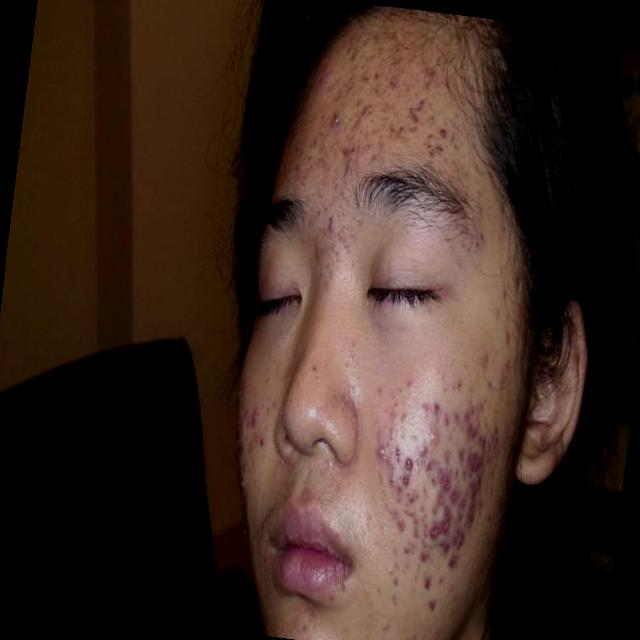acne: (320, 94, 348, 141), (464, 220, 496, 260), (403, 91, 432, 135), (368, 52, 398, 92), (372, 432, 402, 472), (489, 316, 517, 358), (416, 578, 442, 620), (289, 144, 316, 183), (430, 114, 456, 152), (420, 420, 448, 454), (458, 397, 482, 436), (467, 350, 491, 389), (384, 497, 409, 532), (383, 544, 402, 590), (426, 449, 448, 488), (232, 467, 255, 504), (340, 31, 369, 60), (482, 417, 504, 453), (374, 613, 403, 640), (383, 115, 408, 146), (400, 486, 424, 518), (354, 86, 374, 124), (334, 159, 357, 192), (464, 444, 489, 474), (446, 546, 466, 582), (323, 207, 342, 244), (362, 144, 382, 178), (426, 514, 440, 559), (243, 402, 269, 426), (413, 59, 433, 90), (400, 532, 420, 562), (443, 404, 462, 435), (395, 404, 414, 435), (455, 500, 479, 524), (380, 400, 398, 432), (399, 621, 429, 640), (237, 374, 256, 404), (428, 486, 448, 514), (444, 480, 464, 506), (315, 62, 333, 90), (416, 561, 436, 586), (452, 368, 468, 399), (394, 467, 418, 487), (444, 531, 466, 552), (396, 446, 419, 466), (400, 514, 423, 534), (426, 394, 446, 416), (416, 437, 432, 460), (254, 426, 268, 452), (456, 442, 467, 472), (438, 511, 452, 532), (404, 377, 418, 398), (440, 474, 455, 492), (345, 143, 360, 160), (469, 434, 489, 446), (462, 482, 477, 497)
